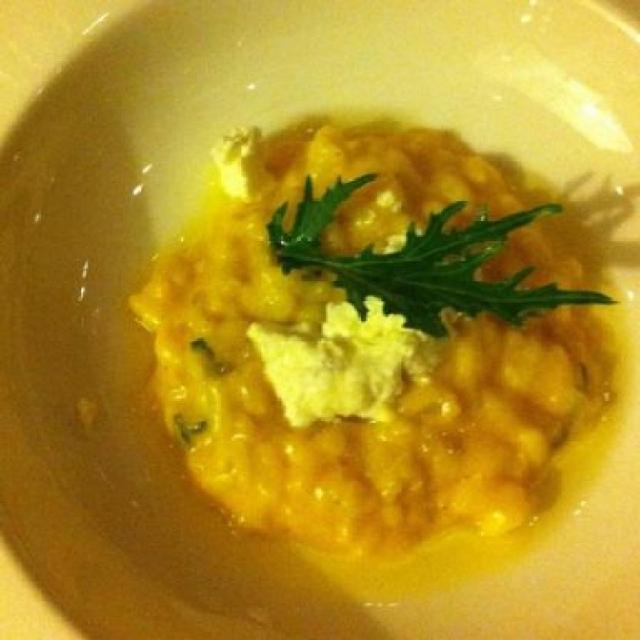Risotto: (128, 129, 630, 542)
